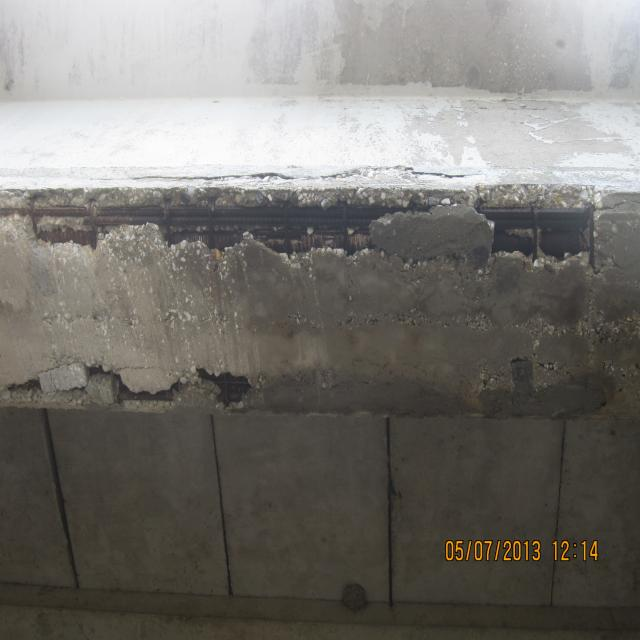corrosion: (0, 178, 602, 275), (84, 358, 258, 412)
